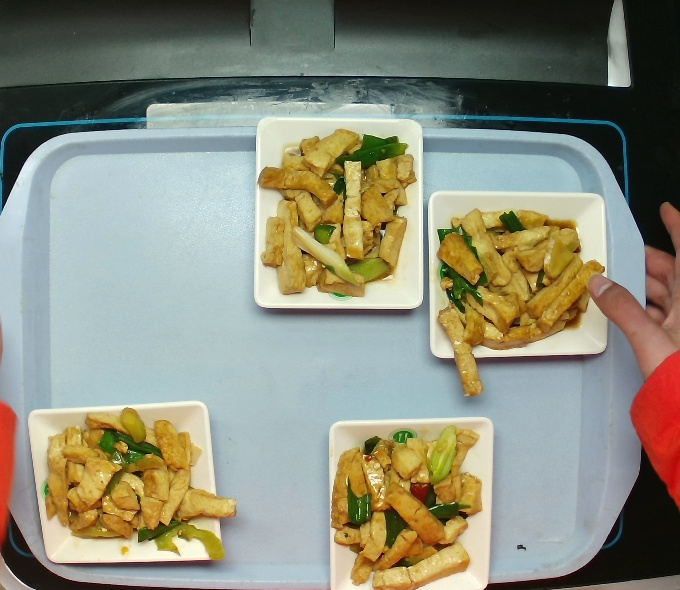wcq-SuanMiaoChaoXiangGan: (417, 202, 639, 383), (38, 416, 239, 556), (330, 419, 482, 589), (256, 130, 408, 296)
